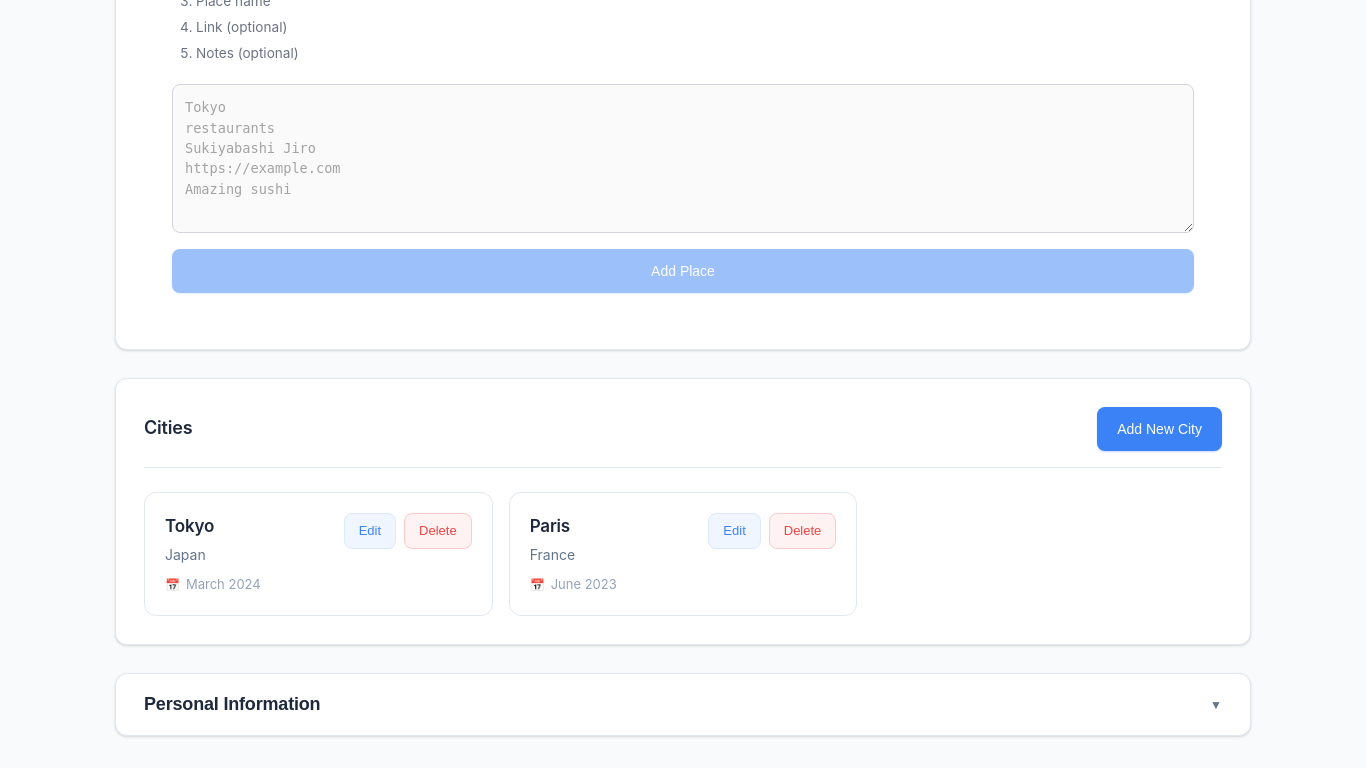
AdminPanel Component › should show delete confirmation dialog when delete button is clicked
(page scrolled)
Find and click delete button for first city
Step 1. Click the button "Delete" in the row of "Tokyo" → (438, 531), box [404,513,472,549]
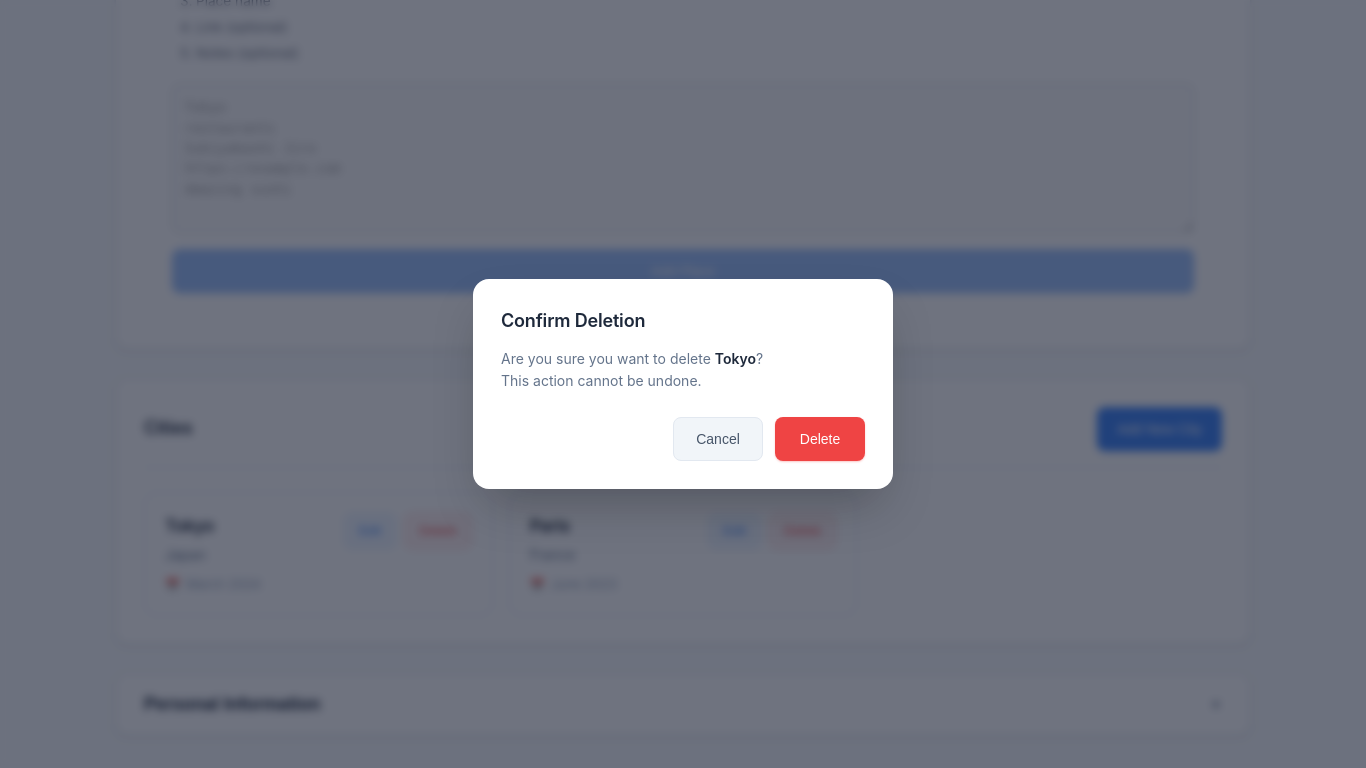
Result: the heading "Confirm Deletion" is shown at [501,310,645,331]
Result: the dialog is shown
Result: the text "This action cannot be undone" is shown at [501,372,702,389]
